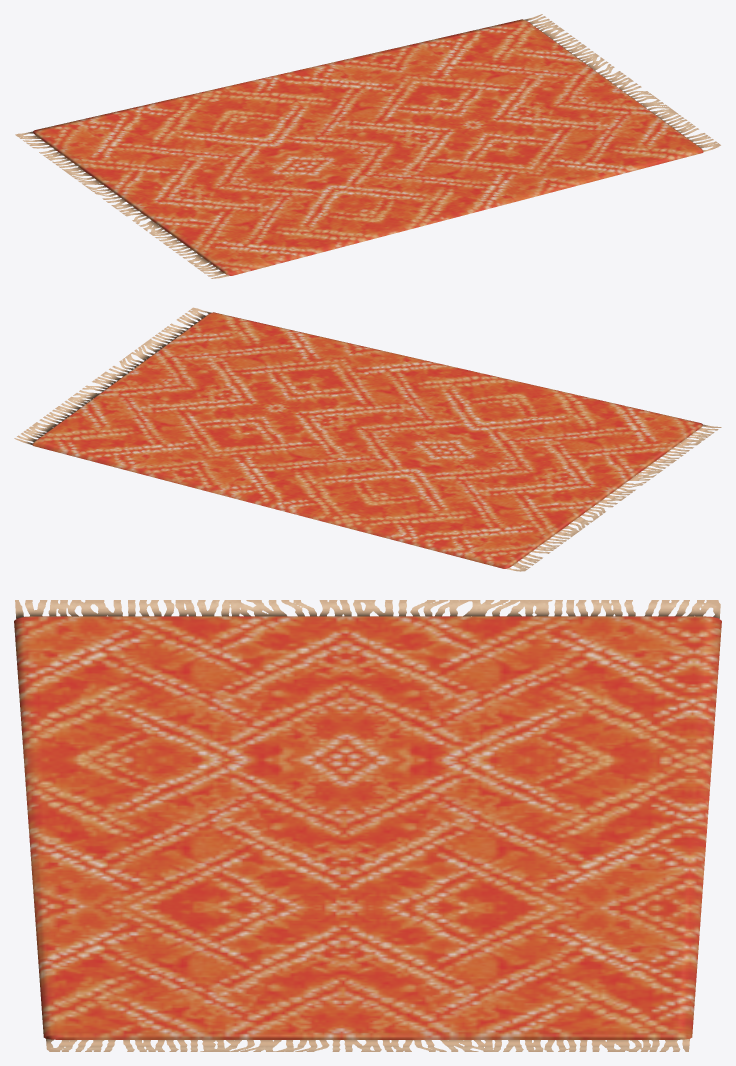
The model's file is SM_Carpet_02.fbx.
3 views of the same model, one above another, from view 1: azimuth 30°, elevation 25°; view 2: azimuth 150°, elevation 25°; view 3: azimuth 270°, elevation 25° (orthographic). The views are drawn at different scales.
Parts seen in each view (by area): view 1: SM_Carpet_02_LOD0; view 2: SM_Carpet_02_LOD0; view 3: SM_Carpet_02_LOD0.
Boxes of the visible parts, x1,y1,x2,y2 form: SM_Carpet_02_LOD0: (15,14,720,278); SM_Carpet_02_LOD0: (14,307,721,571); SM_Carpet_02_LOD0: (14,600,721,1051).
Size of the model in its own units: 281 by 186 by 0.9535.
1 material, 1 textured.
